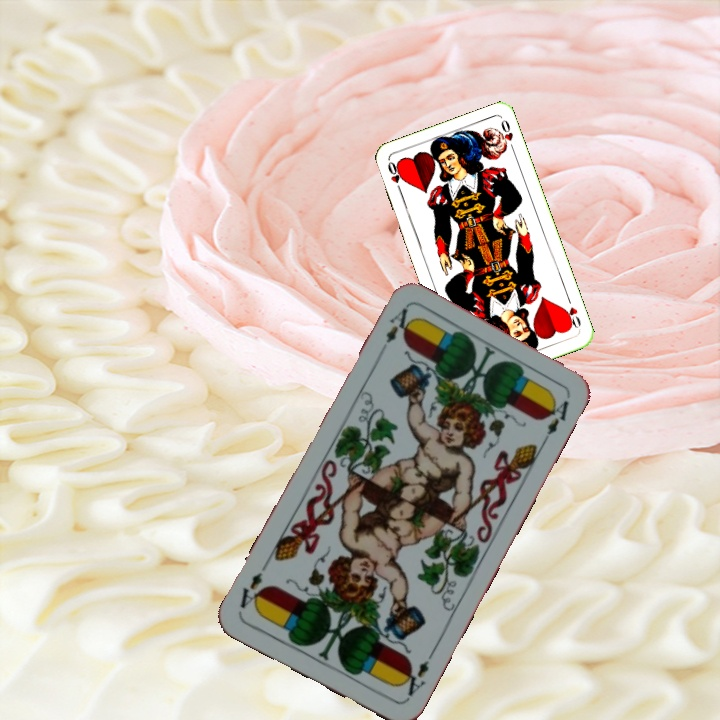EA: (395, 648, 437, 702), (381, 304, 411, 346)
HO: (560, 293, 583, 332), (384, 157, 405, 196)
